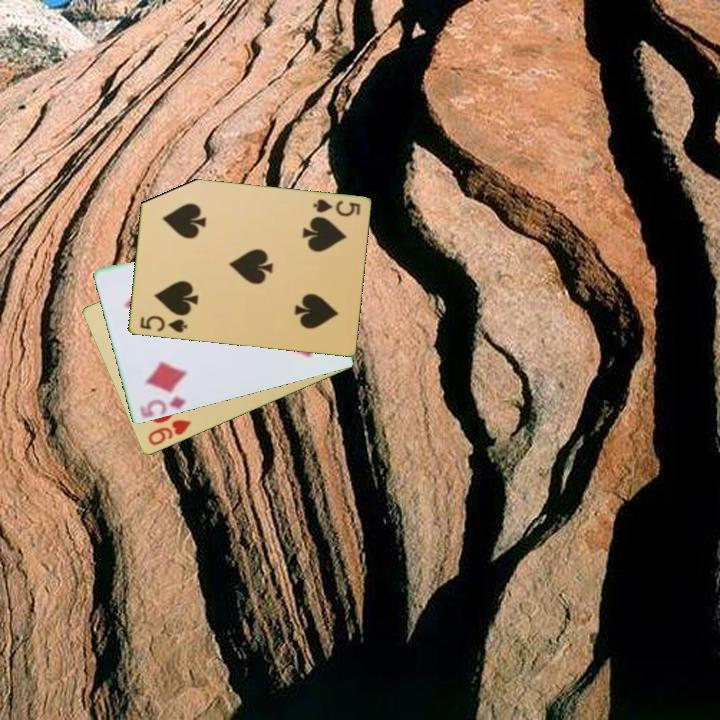5d: (138, 393, 189, 418)
5s: (136, 312, 190, 336), (309, 196, 363, 220)
9h: (144, 416, 194, 449)
